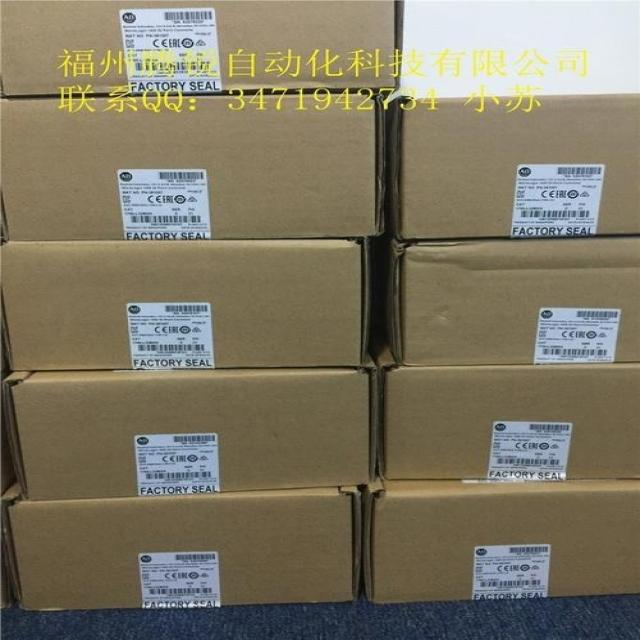box: (0, 90, 382, 240), (0, 238, 375, 372), (0, 368, 377, 499), (0, 480, 357, 610), (366, 329, 639, 482), (0, 2, 405, 100), (384, 94, 639, 238), (376, 234, 639, 364), (366, 480, 639, 603)
